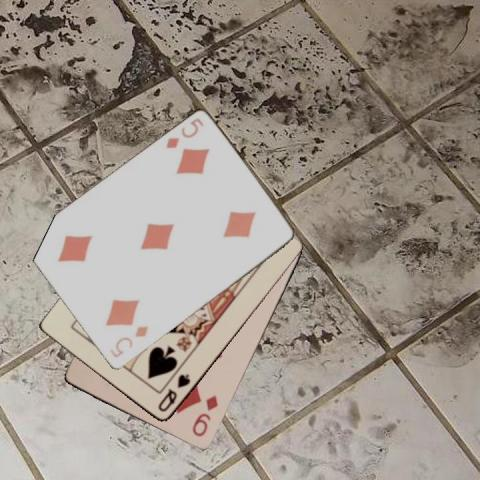5d: (107, 323, 150, 360), (163, 115, 205, 151)
9d: (190, 392, 220, 439)
Qs: (155, 371, 192, 414)
